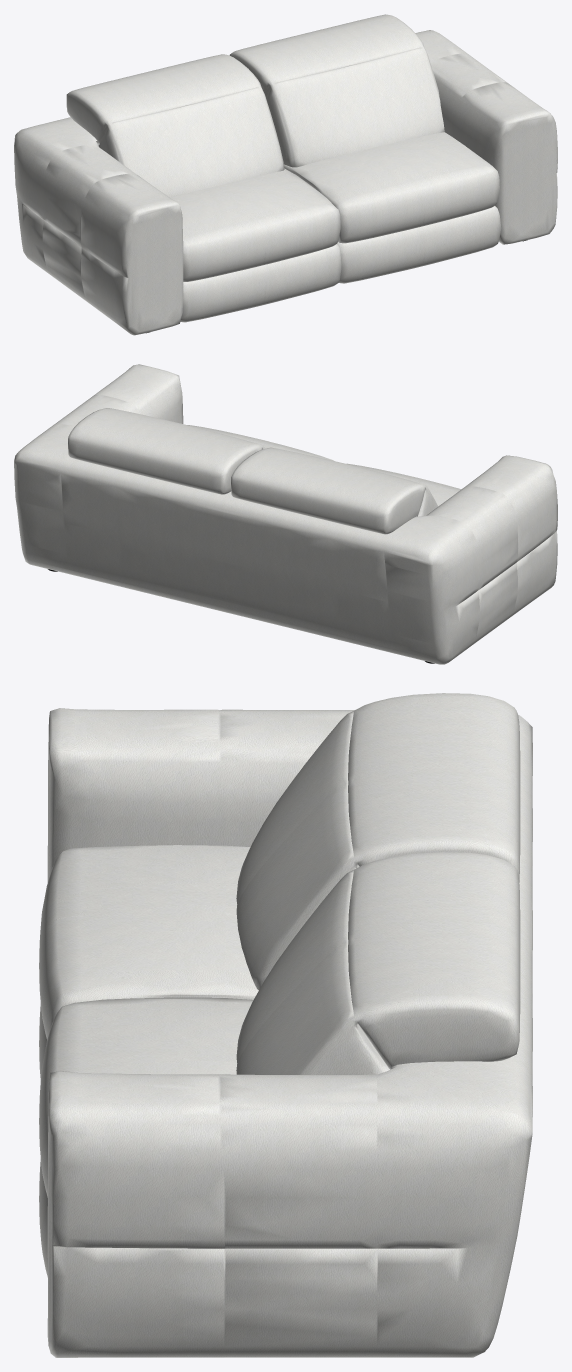
The model's file is sofa2_1.dae.
3 renders of one model, top to bottom at view 1: azimuth 30°, elevation 25°; view 2: azimuth 150°, elevation 25°; view 3: azimuth 270°, elevation 25°, orthographic. The views are drawn at different scales.
Parts seen in each view (by area): view 1: group_2, group_1, group_5, group_8, group_7, group_4, group_14, group_19, group_13, group_20, group_10, group_16 (+2 smaller); view 2: group_2, group_1, group_8, group_5, group_4, group_7, group_20; view 3: group_1, group_2, group_4, group_7, group_19, group_8, group_5, group_14, group_20, group_13.
Boxes of the visible parts, x1,y1,x2,y2 form: group_2: (14,117,183,335); group_1: (415,30,557,244); group_5: (229,32,376,167); group_8: (66,72,213,197); group_7: (148,54,284,186); group_4: (311,14,444,146); group_14: (284,147,424,243); group_19: (216,168,340,265); group_13: (375,132,499,226); group_20: (170,186,265,281); group_10: (337,227,424,283); group_16: (180,265,265,322); group_2: (222,455,557,664); group_1: (14,364,233,614); group_8: (307,464,437,534); group_5: (144,425,264,494); group_4: (68,408,185,476); group_7: (231,447,349,515); group_20: (414,478,461,506); group_1: (47,914,532,1357); group_2: (47,708,532,929); group_4: (236,924,520,1074); group_7: (236,765,520,989); group_19: (39,905,258,1039); group_8: (236,693,520,903); group_5: (236,852,520,1062); group_14: (39,997,253,1119); group_20: (39,845,250,964); group_13: (39,1061,237,1197).
Bounding box in the file's own units: 86 × 42 × 29.91.
2 materials, 1 textured.
